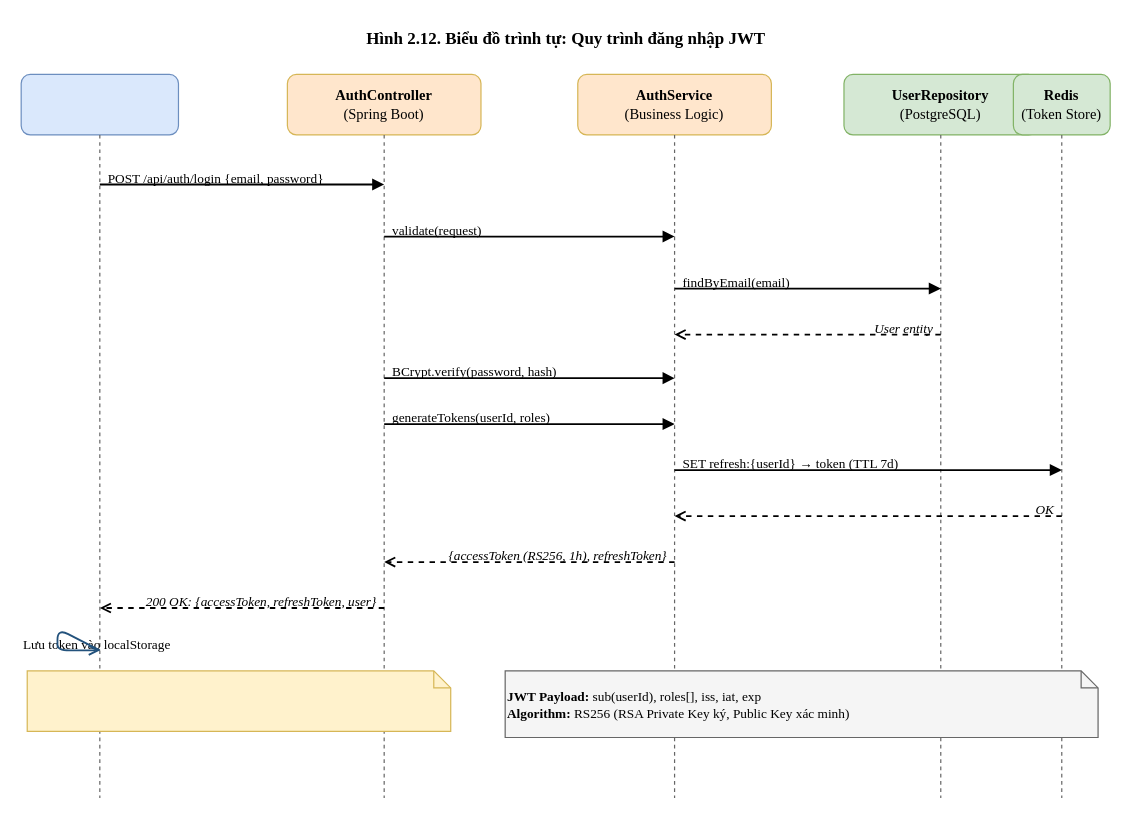
This 1131x820 diagram has some shape labels left out. The box of each missing label's shape, as (x1, y1, x2, y2) in pixels:
[alt] Sai mật khẩu → 401 Unauthorized: "Email hoặc mật khẩu không đúng": (26, 670, 451, 731)
Browser (Client): (20, 73, 178, 135)
